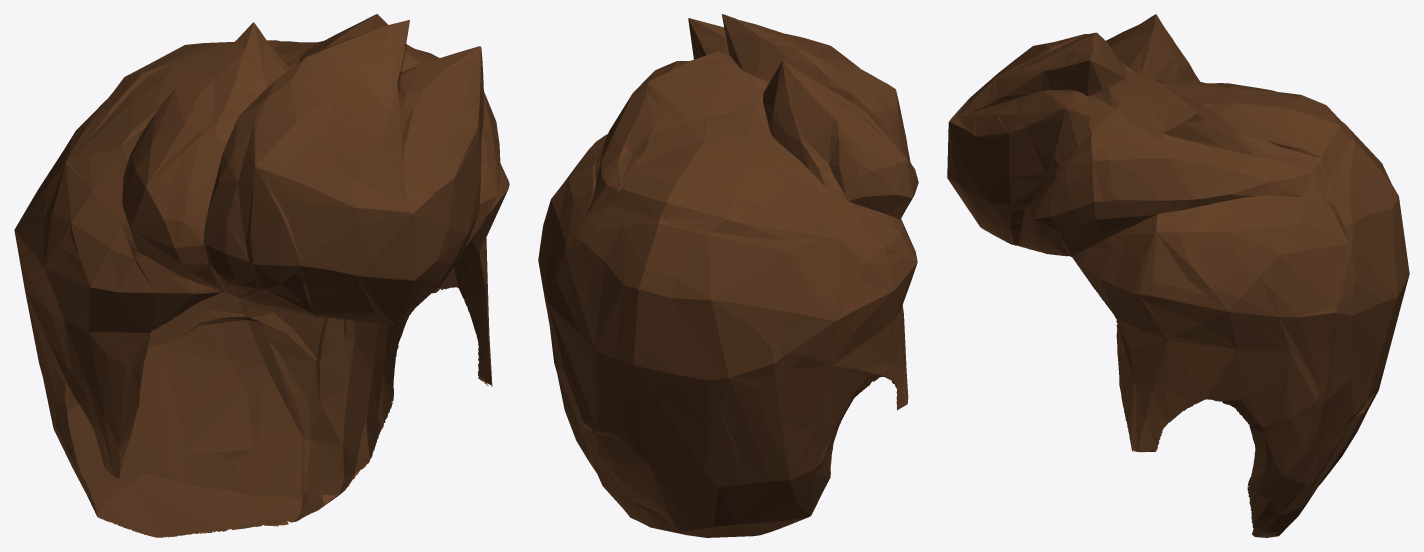
File: quiff-lamina-3000.obj
3 views of the same model, side by side, from view 1: azimuth 30°, elevation 25°; view 2: azimuth 150°, elevation 25°; view 3: azimuth 270°, elevation 25° (orthographic). The views are drawn at different scales.
Visible parts, largest first — view 1: Quiff_lamina_3000; view 2: Quiff_lamina_3000; view 3: Quiff_lamina_3000.
Part boxes in pixels (x1,y1,x2,y2): Quiff_lamina_3000: (14,14,509,537); Quiff_lamina_3000: (538,14,918,537); Quiff_lamina_3000: (947,14,1409,537).
Bounding box in the file's own units: 1.11 × 1.43 × 1.24.
